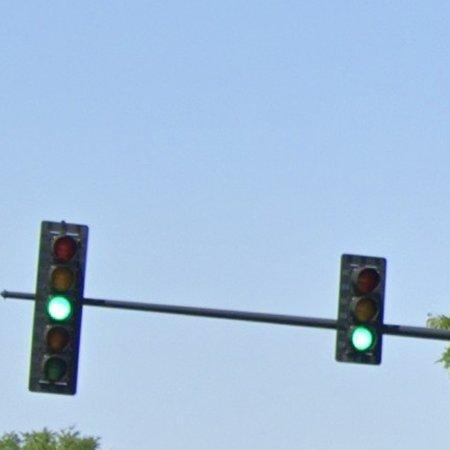traffic lights: (27, 220, 89, 395), (336, 253, 387, 366)
